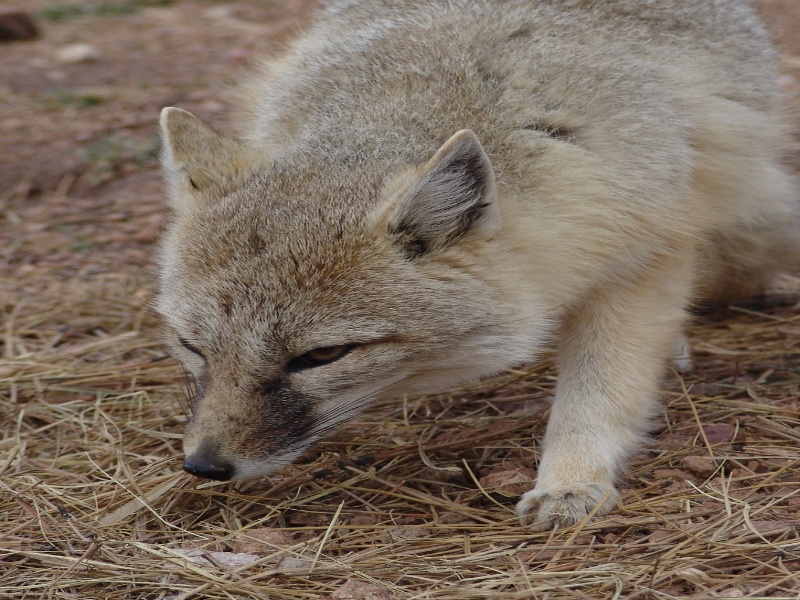fox: (143, 8, 778, 530)
